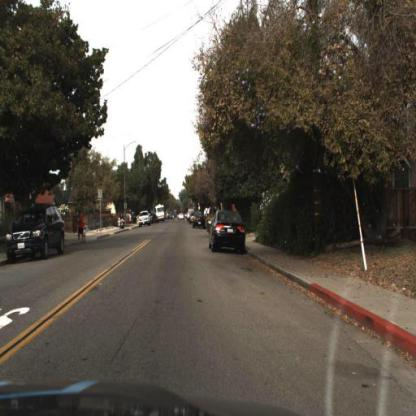car: (5, 204, 66, 261), (210, 208, 248, 254), (191, 210, 208, 229), (137, 208, 153, 228)
pedestrian: (75, 208, 88, 246), (76, 211, 88, 247), (116, 209, 127, 235), (81, 222, 88, 245)
